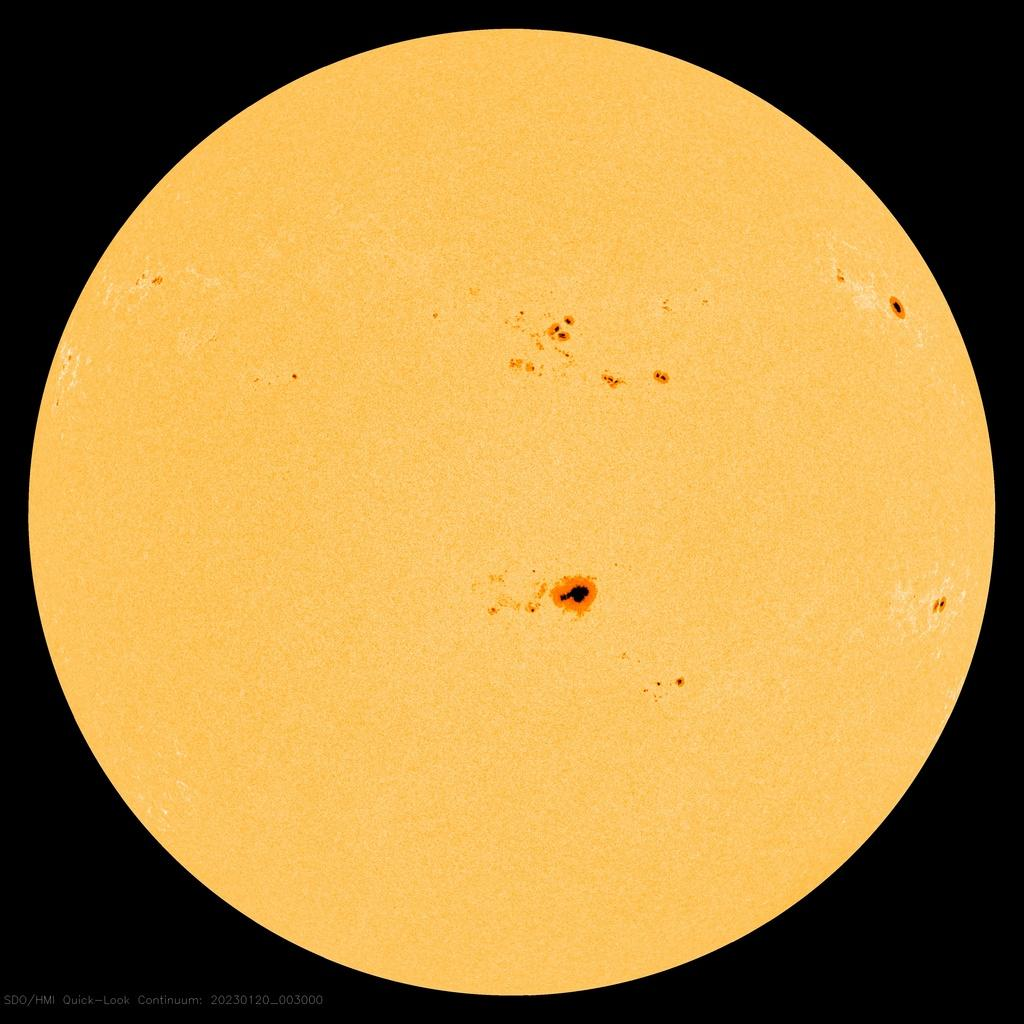flare: (504, 301, 674, 391), (484, 561, 601, 621), (838, 271, 908, 318), (638, 664, 691, 696), (134, 264, 169, 293), (931, 591, 953, 614)
